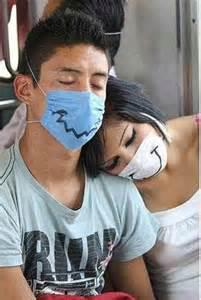OK: (35, 67, 109, 145), (103, 117, 168, 180)
